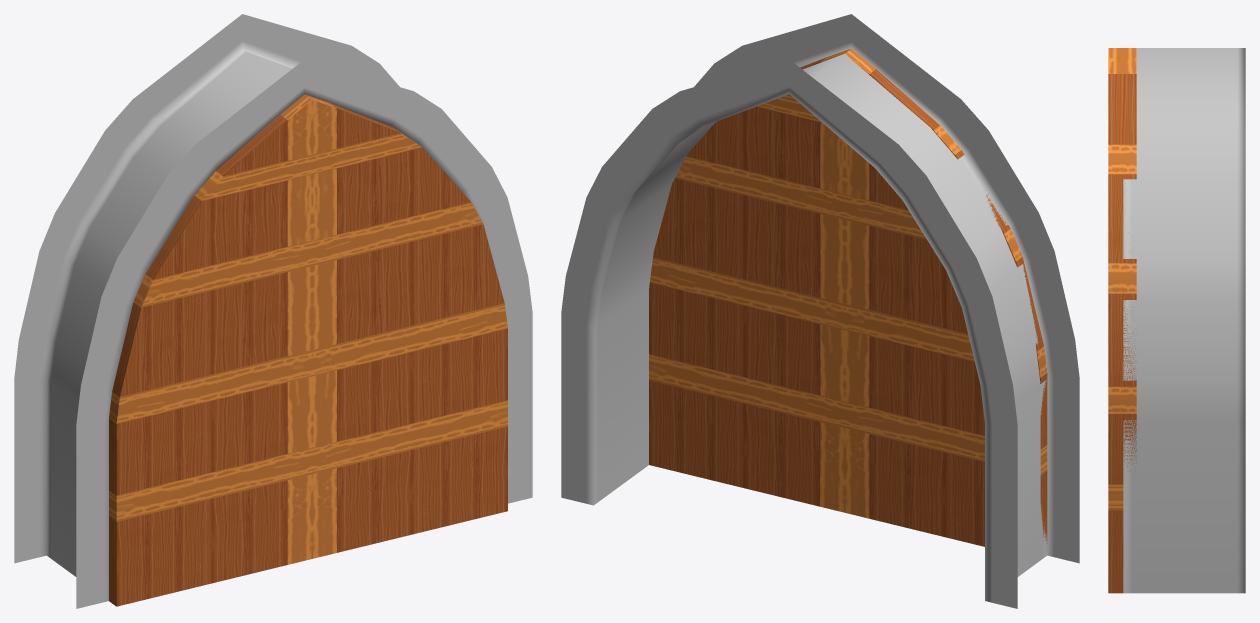
The model's file is Arena_Gate.fbx.
3 views of the same model, side by side, from view 1: azimuth 30°, elevation 25°; view 2: azimuth 150°, elevation 25°; view 3: azimuth 270°, elevation 25° (orthographic).
Visible parts, largest first — view 1: Scene_Export_mesh_mesh.001, Scene_Export_mesh_mesh.002, Scene_Export_mesh_mesh.003; view 2: Scene_Export_mesh_mesh.001, Scene_Export_mesh_mesh.003, Scene_Export_mesh_mesh.002; view 3: Scene_Export_mesh_mesh.001, Scene_Export_mesh_mesh.003.
Part boxes in pixels (left/top/right/bottom): Scene_Export_mesh_mesh.001: left=14, top=14, right=532, bottom=608; Scene_Export_mesh_mesh.002: left=109, top=94, right=312, bottom=606; Scene_Export_mesh_mesh.003: left=305, top=94, right=507, bottom=558; Scene_Export_mesh_mesh.001: left=561, top=14, right=1079, bottom=608; Scene_Export_mesh_mesh.003: left=649, top=49, right=850, bottom=512; Scene_Export_mesh_mesh.002: left=844, top=49, right=1047, bottom=546; Scene_Export_mesh_mesh.001: left=1123, top=48, right=1245, bottom=593; Scene_Export_mesh_mesh.003: left=1108, top=48, right=1136, bottom=593.
Size of the model in its own units: 513 by 530 by 136.
